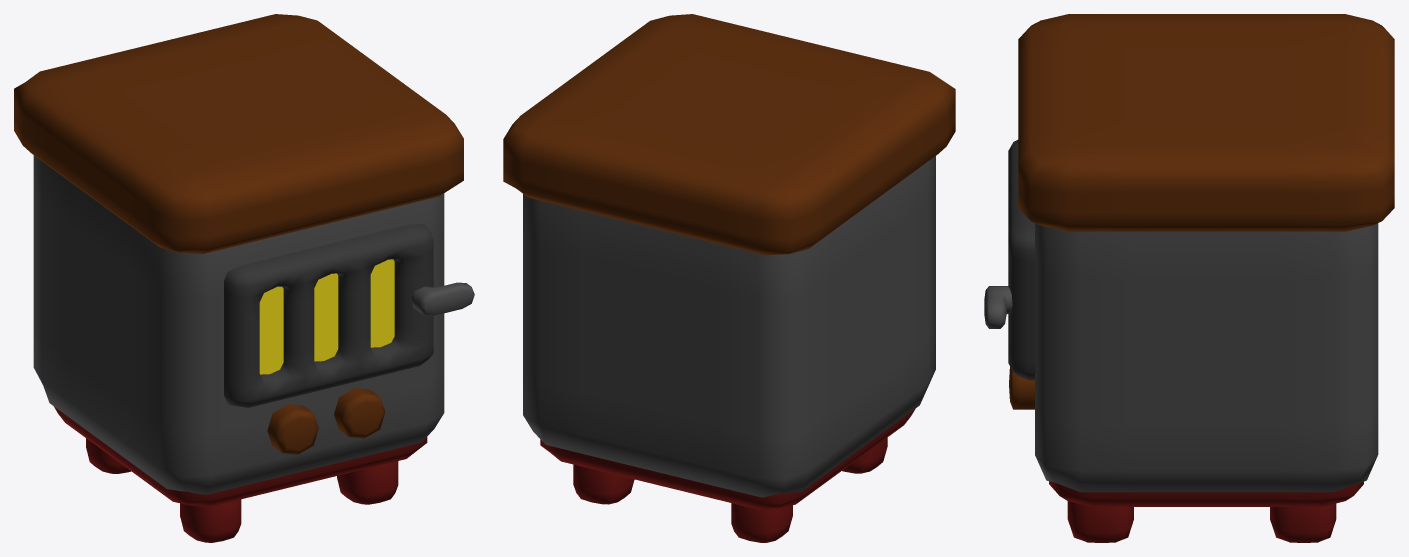
File: Heater.fbx
3 views of the same model, side by side, from view 1: azimuth 30°, elevation 25°; view 2: azimuth 150°, elevation 25°; view 3: azimuth 270°, elevation 25° (orthographic). The views are drawn at different scales.
Visible parts, largest first — view 1: Heater18, Heater1, Heater17, Heater21, Heater19; view 2: Heater1, Heater18, Heater21; view 3: Heater1, Heater18, Heater21, Heater17.
Part boxes in pixels (x1,y1,x2,y2): Heater18: (14, 14, 463, 253); Heater1: (33, 155, 444, 494); Heater17: (224, 224, 474, 407); Heater21: (54, 406, 427, 542); Heater19: (259, 259, 394, 374); Heater1: (523, 156, 935, 497); Heater18: (503, 14, 955, 255); Heater21: (540, 409, 915, 542); Heater1: (1009, 223, 1378, 492); Heater18: (1018, 14, 1394, 231); Heater21: (1049, 481, 1363, 542); Heater17: (984, 140, 1035, 380).
Size of the model in its own units: 5.63 by 6.76 by 6.14.
